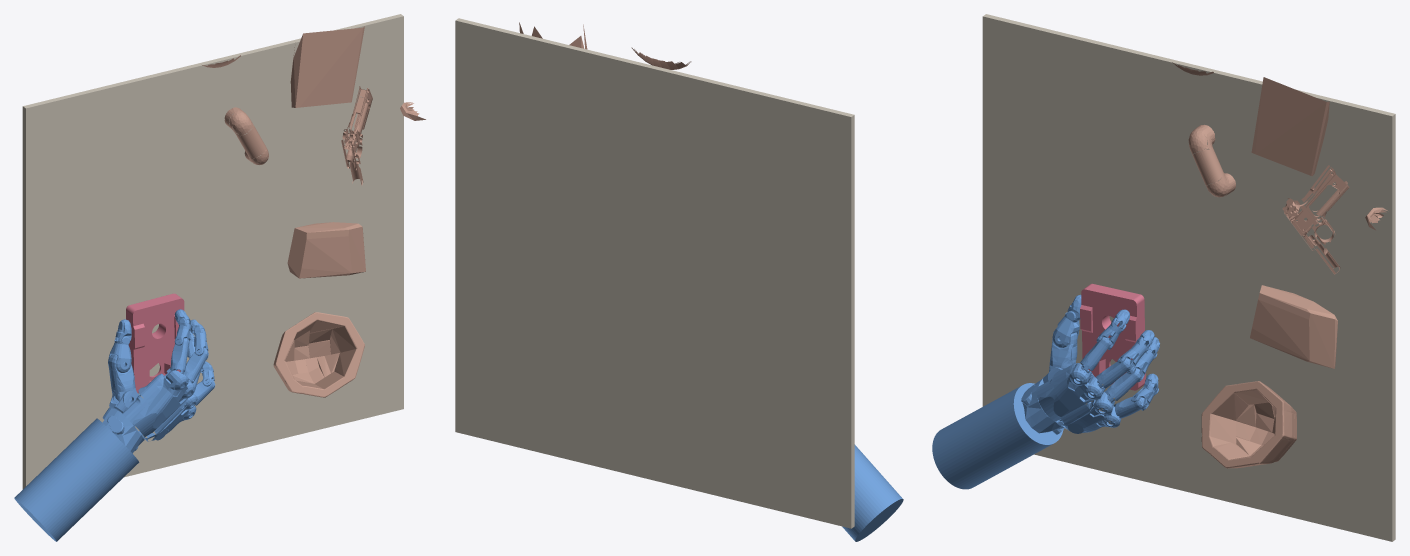
3 views of the same model, side by side, from view 1: azimuth 30°, elevation 25°; view 2: azimuth 150°, elevation 25°; view 3: azimuth 330°, elevation 25° (orthographic). The views are drawn at different scales.
Visible parts, largest first — view 1: environment, hand, obstacle_005, obstacle_006, obstacle_000, world, obstacle_003, obstacle_004; view 2: environment, hand; view 3: environment, hand, obstacle_005, obstacle_006, obstacle_000, world, obstacle_003, obstacle_004.
Boxes of the visible parts, left/top/right/bottom form: environment: left=22, top=14, right=403, bottom=489; hand: left=14, top=309, right=215, bottom=541; obstacle_005: left=273, top=312, right=364, bottom=397; obstacle_006: left=290, top=26, right=364, bottom=107; obstacle_000: left=287, top=222, right=365, bottom=278; world: left=126, top=293, right=184, bottom=393; obstacle_003: left=341, top=86, right=372, bottom=185; obstacle_004: left=224, top=107, right=268, bottom=165; environment: left=455, top=18, right=854, bottom=528; hand: left=842, top=444, right=903, bottom=541; environment: left=982, top=14, right=1395, bottom=541; hand: left=932, top=294, right=1159, bottom=489; obstacle_005: left=1201, top=381, right=1296, bottom=468; obstacle_006: left=1251, top=77, right=1329, bottom=176; obstacle_000: left=1250, top=285, right=1337, bottom=368; world: left=1080, top=283, right=1145, bottom=390; obstacle_003: left=1282, top=165, right=1349, bottom=274; obstacle_004: left=1188, top=124, right=1235, bottom=197.
Bounding box in the file's own units: 0.6113 × 0.6285 × 0.1057.
